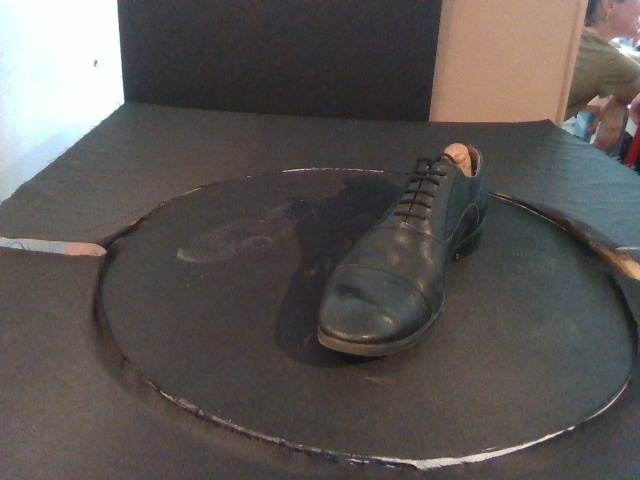shoe: (315, 143, 489, 359)
